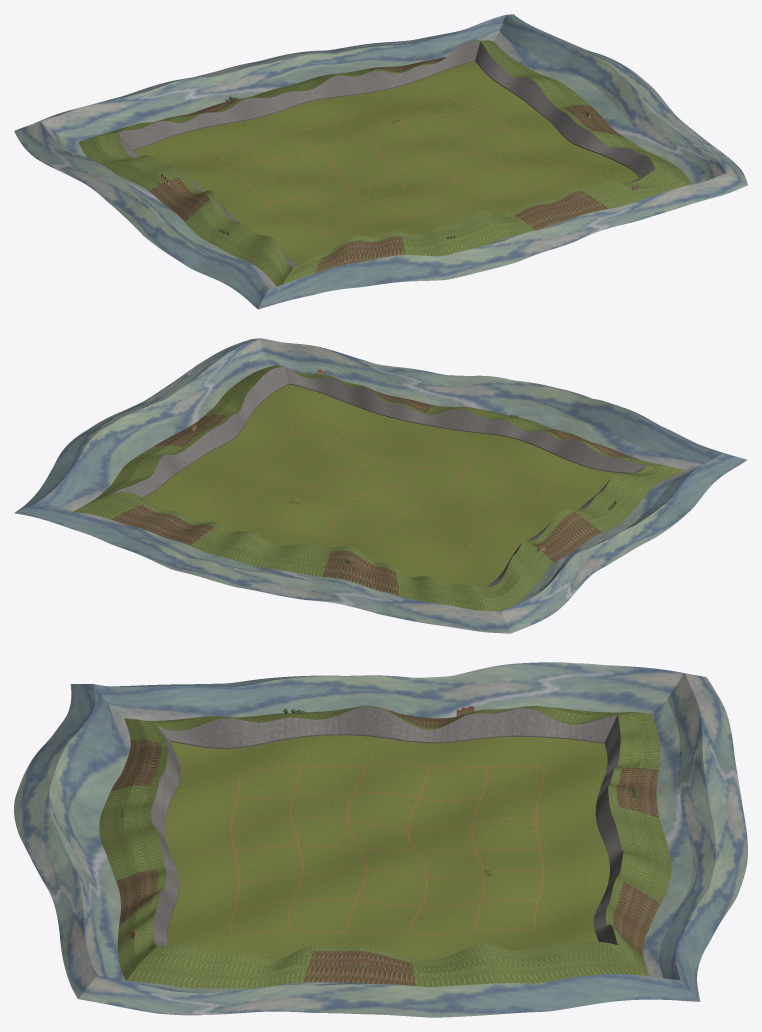
The model's file is Highroad.fbx.
3 views of the same model, one above another, from view 1: azimuth 30°, elevation 25°; view 2: azimuth 150°, elevation 25°; view 3: azimuth 270°, elevation 25° (orthographic). The views are drawn at different scales.
Parts seen in each view (by area): view 1: Surroundings, Terrain, Rim; view 2: Surroundings, Terrain, Rim; view 3: Surroundings, Terrain, Rim.
Boxes of the visible parts, x1,y1,x2,y2 form: Surroundings: (14, 14, 747, 309); Terrain: (134, 61, 638, 265); Rim: (118, 40, 655, 267); Surroundings: (14, 338, 747, 633); Terrain: (142, 384, 627, 586); Rim: (111, 367, 646, 586); Surroundings: (14, 662, 747, 1017); Terrain: (164, 735, 609, 959); Rim: (151, 706, 623, 945).
Bounding box in the file's own units: 229298 × 12068 × 204928.
